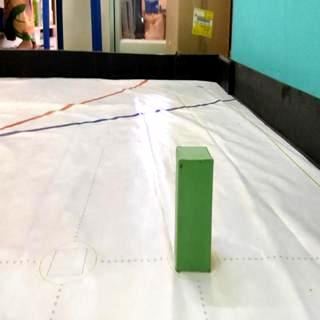greenbox: (175, 144, 215, 274)
